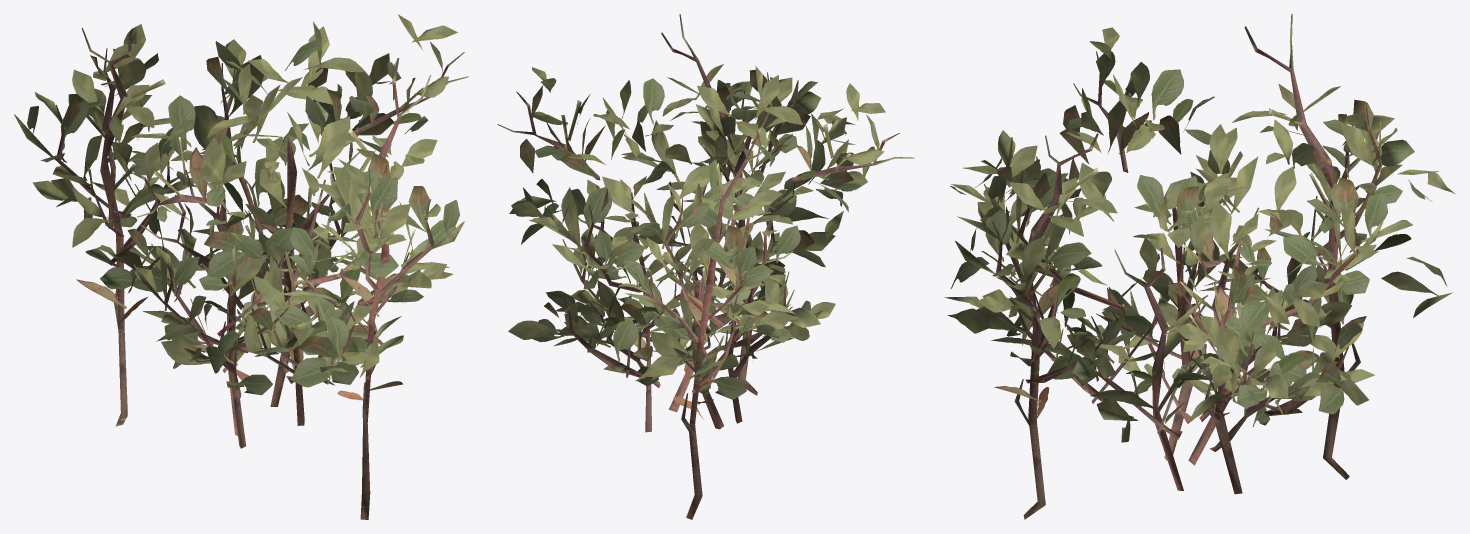
File: veg-shrub-hedge-cdc2729f0a2b.glb
3 renders of one model, left to right at view 1: azimuth 30°, elevation 25°; view 2: azimuth 150°, elevation 25°; view 3: azimuth 270°, elevation 25°, orthographic. The views are drawn at different scales.
Parts seen in each view (by area): view 1: veg-shrub-hedge; view 2: veg-shrub-hedge; view 3: veg-shrub-hedge.
Part boxes in pixels (x1,y1,x2,y2): veg-shrub-hedge: (14,14,468,519); veg-shrub-hedge: (497,14,914,519); veg-shrub-hedge: (944,14,1454,519).
Size of the model in its own units: 0.6983 by 0.72 by 0.7719.
1 material, 1 textured.
